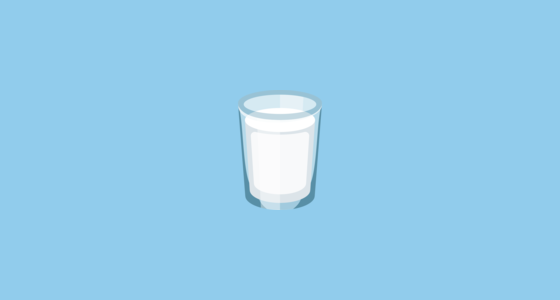glass of milk: (240, 102, 314, 192)
